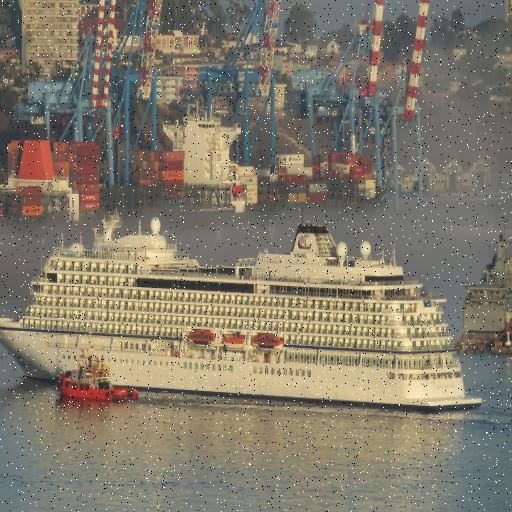cruises: (1, 202, 487, 421)
